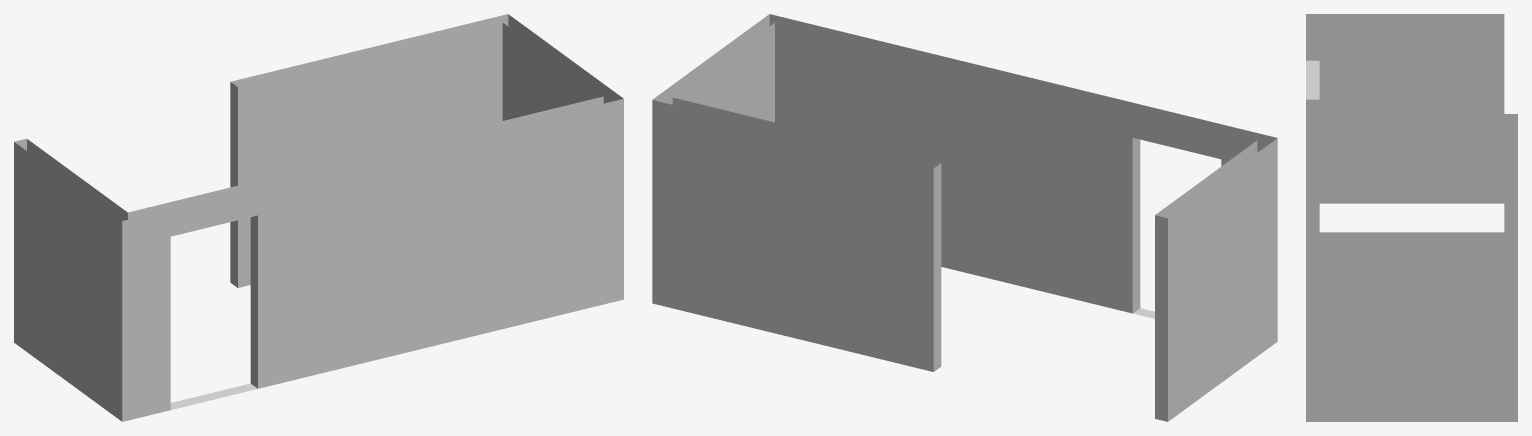
File: LouDao-36.FBX
The picture shows the model from 3 angles, left to right: view 1: azimuth 30°, elevation 25°; view 2: azimuth 150°, elevation 25°; view 3: azimuth 270°, elevation 25°; orthographic projection. The views are drawn at different scales.
Visible parts, largest first — view 1: LouDao-36; view 2: LouDao-36; view 3: LouDao-36.
Part boxes in pixels (left/top/right/bottom): LouDao-36: left=14, top=14, right=623, bottom=421; LouDao-36: left=652, top=14, right=1277, bottom=421; LouDao-36: left=1306, top=14, right=1517, bottom=421.
Size of the model in its own units: 8.61 by 3.29 by 3.44.
1 material, 1 textured.
